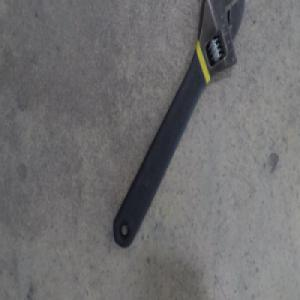AdjustableWrench: (113, 1, 244, 249)
